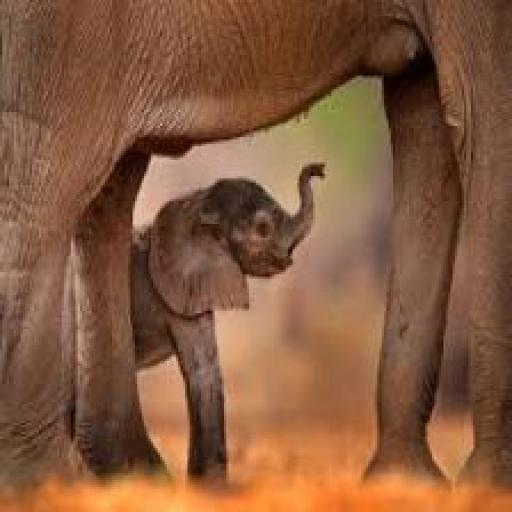Elephant: (78, 124, 441, 508)
